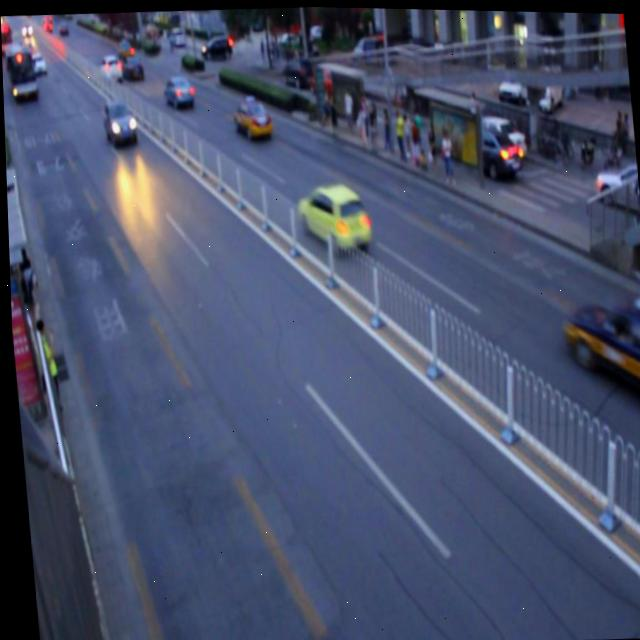car: (559, 285, 640, 407), (296, 180, 371, 253), (230, 94, 274, 143), (102, 99, 139, 147), (162, 72, 196, 110)
